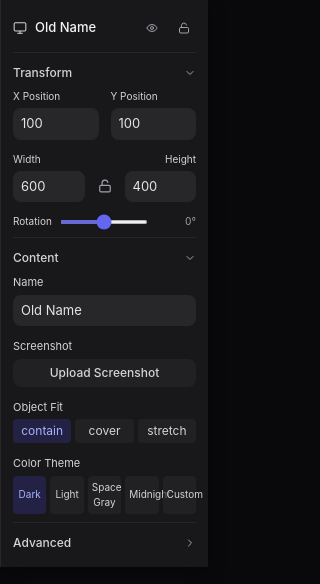
single selection — header & rename › double-click rename commits on Enter and pushes history
The image size is (320, 584).
Step 1. Double-click the text "Old Name" → [66, 27], box top-left (35, 19), bottom-right (96, 35)
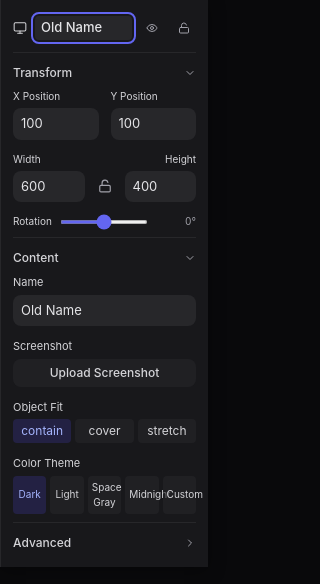
Step 2. Replace the text in the field named "Element name" with "New Name" → [84, 28], box top-left (35, 16), bottom-right (132, 40)
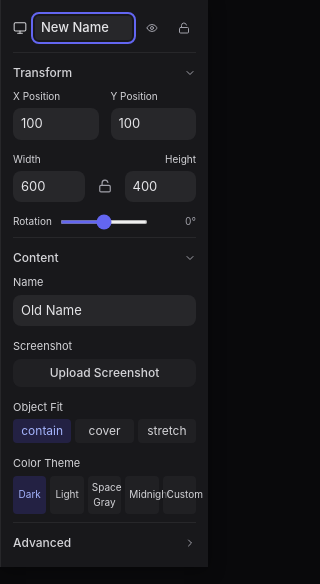
Step 3. Press Enter in the field named "Element name", box top-left (35, 16), bottom-right (132, 40)
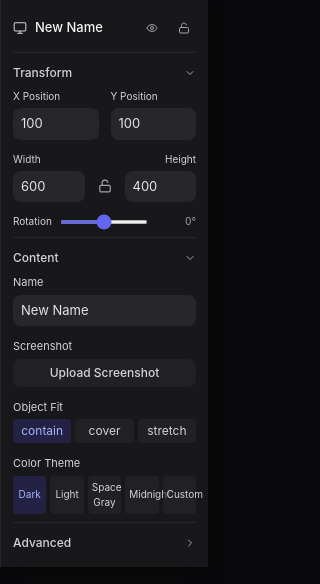
Expected: the text "New Name" is shown, top-left (35, 19), bottom-right (103, 35)
